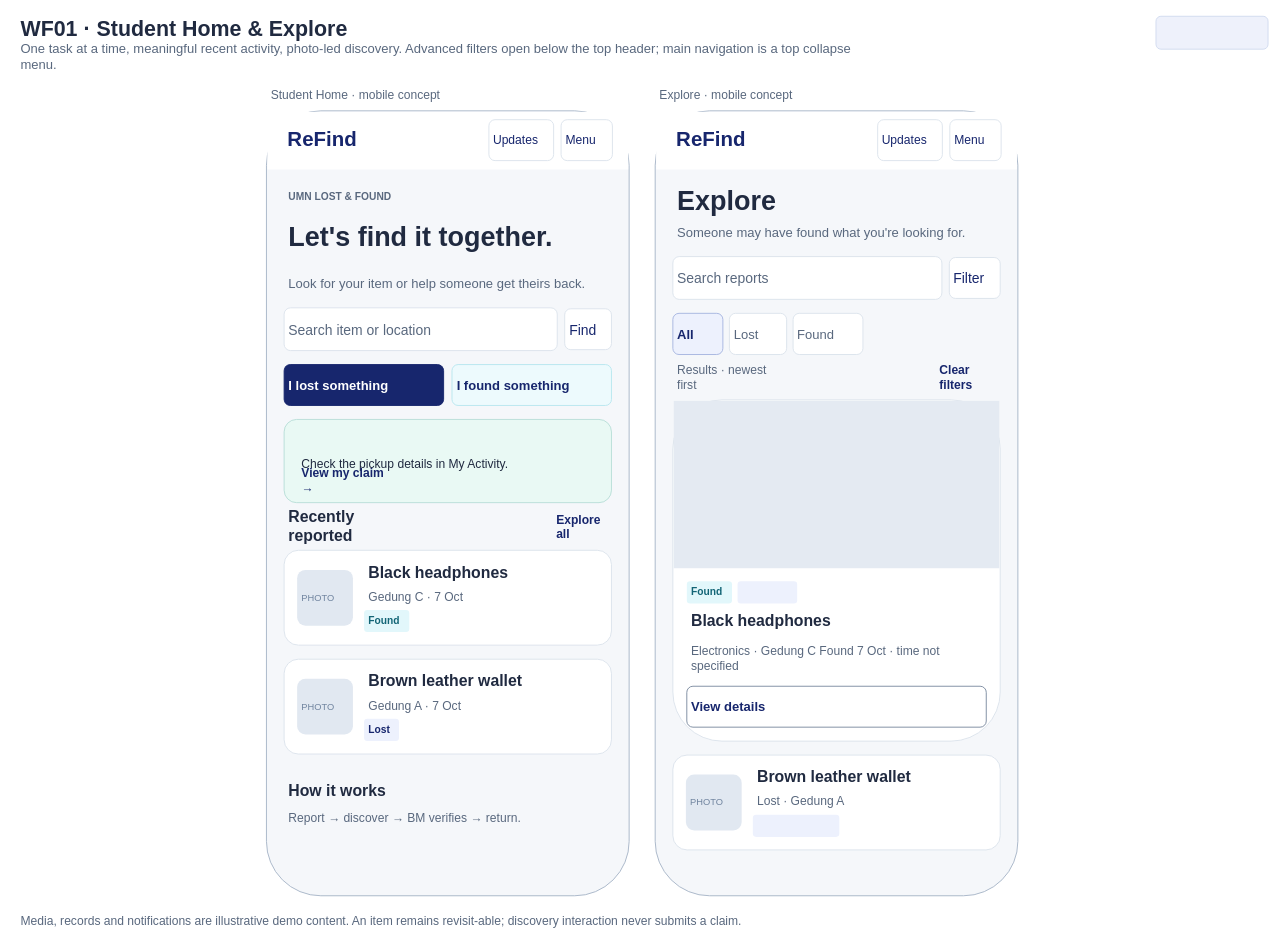
Image size: 1284x946. Some labels were removed from this diagram. The shapes that lost their labels are listed below. From the top down, each one's box as (x1, y1, x2, y2) in pixels, then its label:
(1155, 15, 1268, 49): CONCEPT / UX01
(673, 400, 999, 568): Public item photo placeholder
(737, 581, 797, 603): Reported
(752, 814, 839, 836): Possible match
